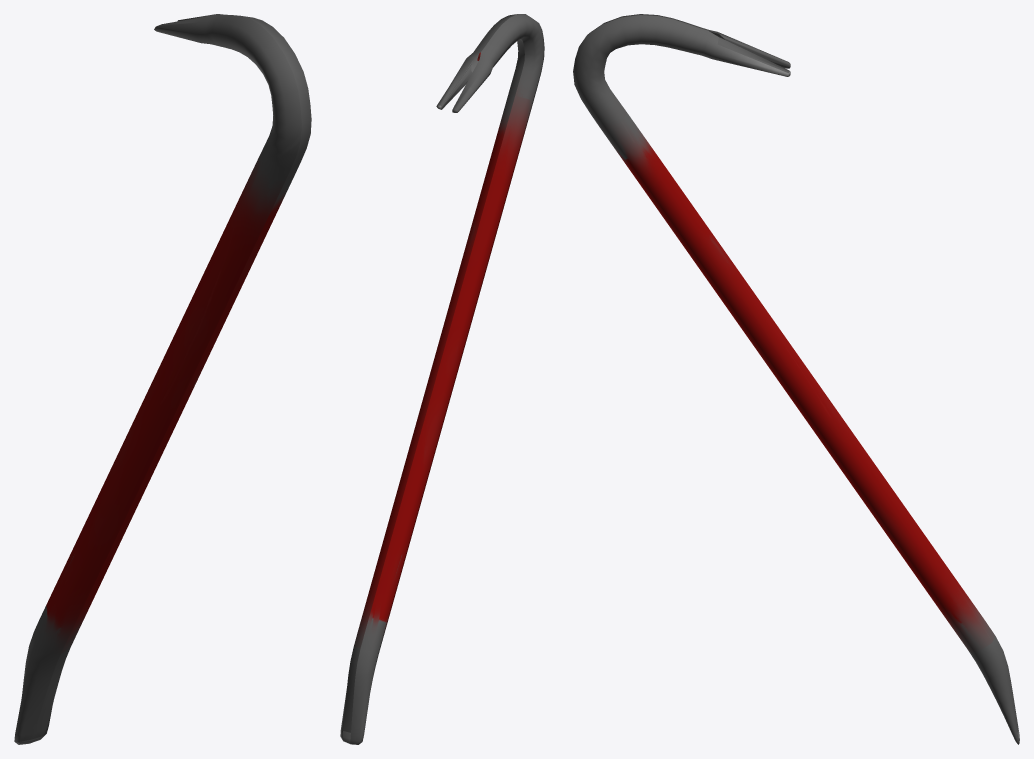
Rendered from crowbar.glb.
3 renders of one model, left to right at view 1: azimuth 30°, elevation 25°; view 2: azimuth 150°, elevation 25°; view 3: azimuth 270°, elevation 25°, orthographic. The views are drawn at different scales.
Parts seen in each view (by area): view 1: Plane_3; view 2: Plane_3; view 3: Plane_3.
Part boxes in pixels (left/top/right/bottom): Plane_3: left=14, top=14, right=311, bottom=744; Plane_3: left=340, top=14, right=544, bottom=744; Plane_3: left=573, top=14, right=1019, bottom=744.
Size of the model in its own units: 0.2052 by 4.3 by 2.39.
Materials: 1 (1 with a texture image).
